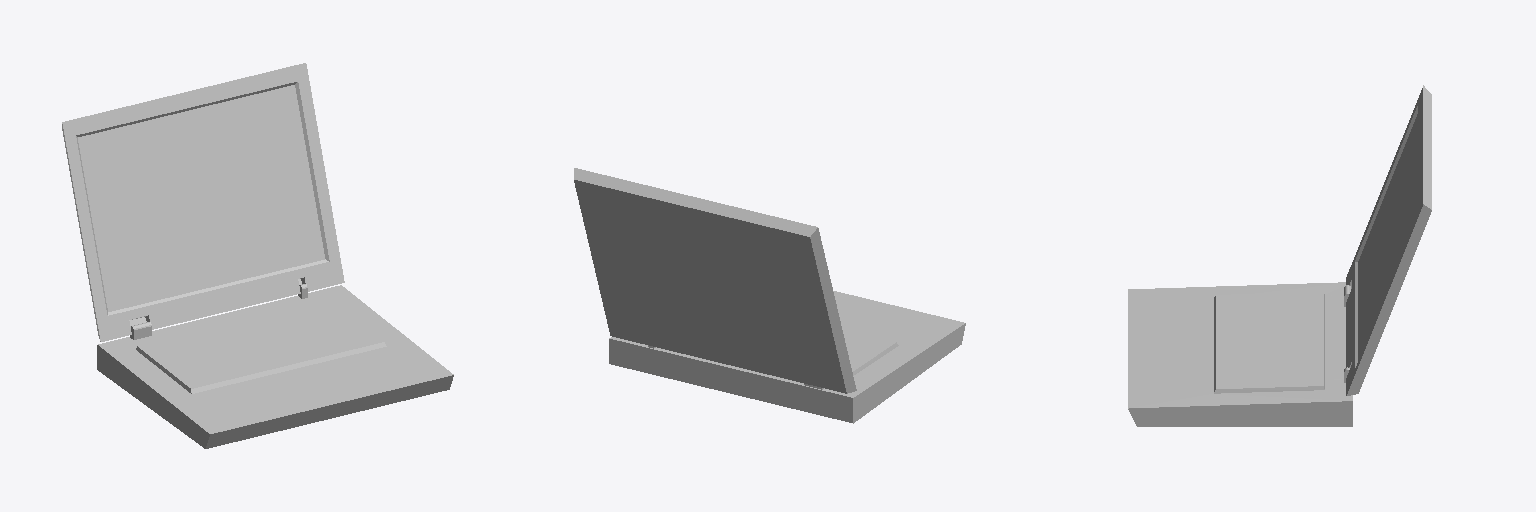
File: Lowpoly Old Notebook.obj
The picture shows the model from 3 angles: view 1: azimuth 30°, elevation 25°; view 2: azimuth 150°, elevation 25°; view 3: azimuth 270°, elevation 25°; orthographic projection.
Visible parts, largest first — view 1: Box002, Box001; view 2: Box002, Box001; view 3: Box001, Box002.
Boxes of the visible parts, box(x1,y1,x2,y2) form: Box002: box(62, 63, 344, 341); Box001: box(97, 284, 453, 448); Box002: box(574, 168, 856, 393); Box001: box(609, 291, 965, 423); Box001: box(1128, 282, 1352, 426); Box002: box(1346, 85, 1431, 395).
Size of the model in its own units: 4.68 by 4.07 by 5.06.